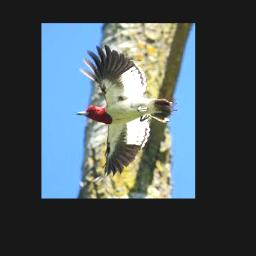Woodpecker: (76, 45, 177, 181)
